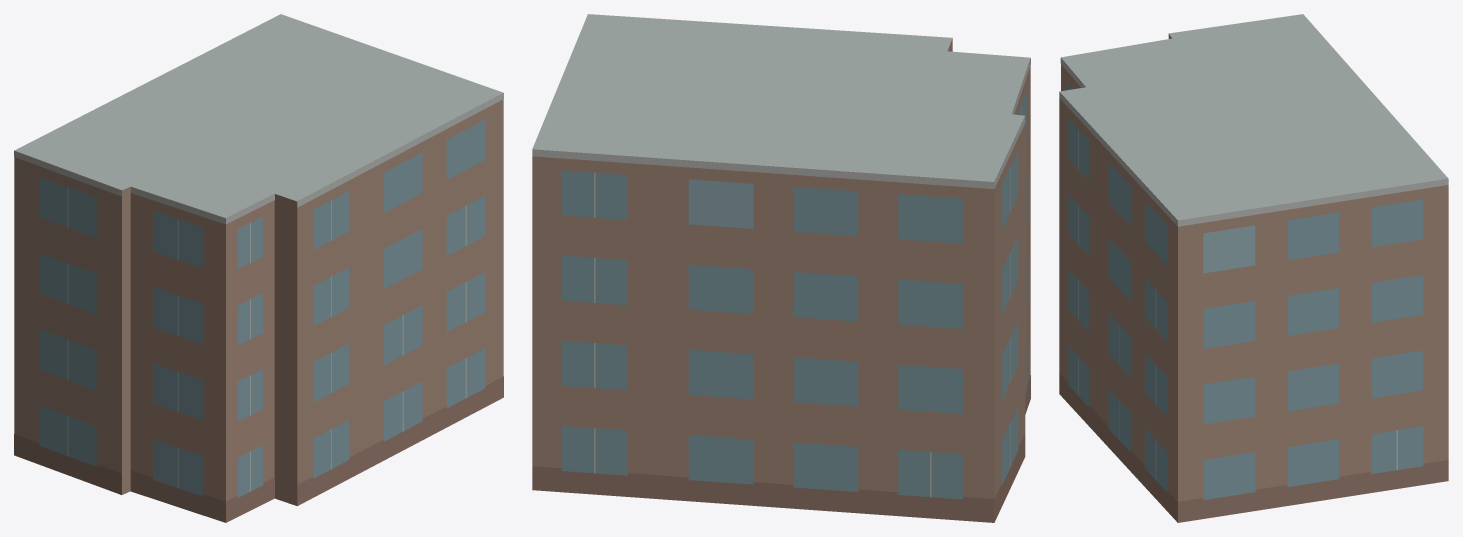
The model's file is survey-upis-32977905.glb.
3 views of the same model, side by side, from view 1: azimuth 30°, elevation 25°; view 2: azimuth 150°, elevation 25°; view 3: azimuth 270°, elevation 25° (orthographic). The views are drawn at different scales.
Parts seen in each view (by area): view 1: survey-upis-32977905.tmp; view 2: survey-upis-32977905.tmp; view 3: survey-upis-32977905.tmp.
Part boxes in pixels (x1,y1,x2,y2): survey-upis-32977905.tmp: (14, 14, 503, 522); survey-upis-32977905.tmp: (532, 14, 1030, 522); survey-upis-32977905.tmp: (1059, 14, 1448, 522).
Size of the model in its own units: 17.22 by 11.75 by 13.72.
